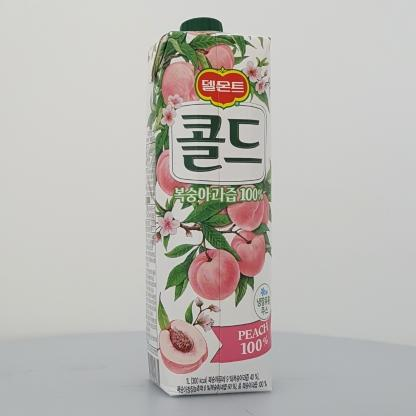-------------100_: (145, 17, 272, 396)
